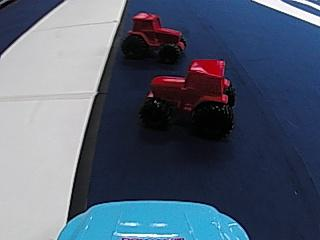Tracktor: (138, 52, 239, 135), (122, 9, 188, 61)
